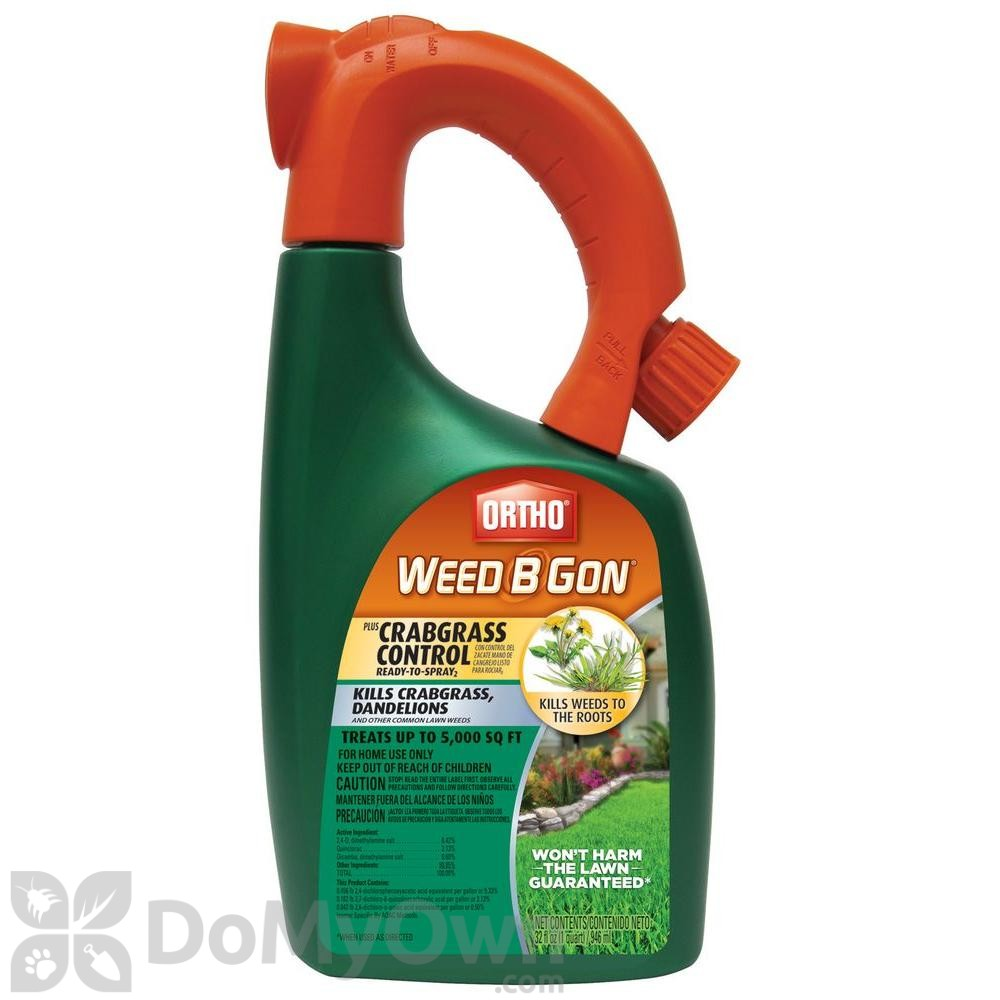crabgrass: (558, 644, 648, 698)
